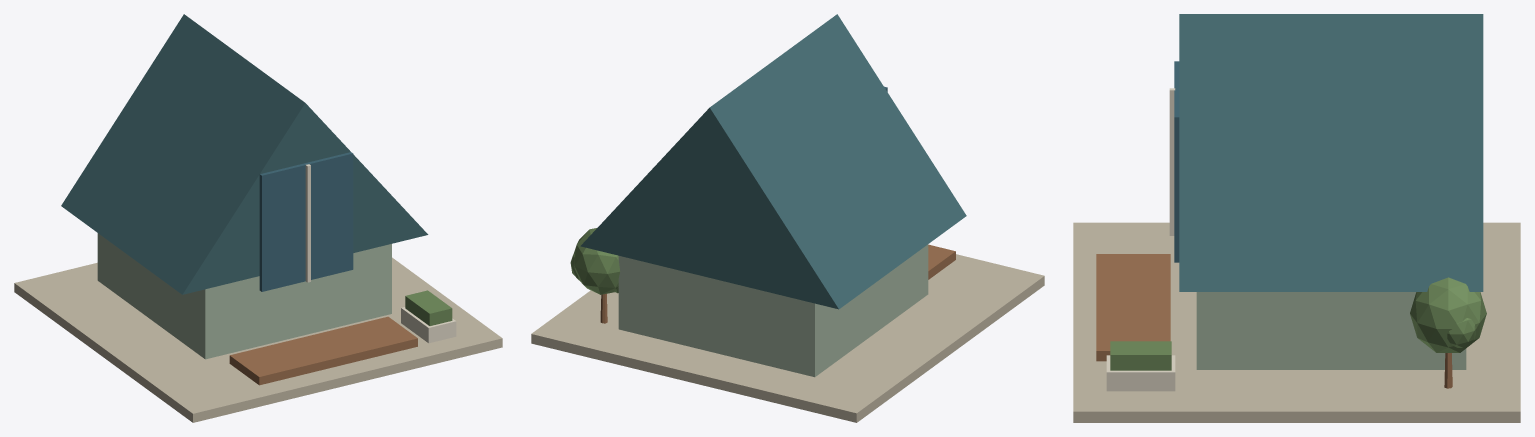
File: sage-house_lod.glb
The picture shows the model from 3 angles, left to right: view 1: azimuth 30°, elevation 25°; view 2: azimuth 150°, elevation 25°; view 3: azimuth 270°, elevation 25°; orthographic projection. The views are drawn at different scales.
Visible parts, largest first — view 1: sage_house_Gable_Roof, sage_house_Site_Paving, sage_house_Building_Volume, sage_house_Gable_Glass, sage_house_Timber_Porch, sage_house_Hedge, sage_house_Raised_Planter, sage_house_Gable_Frame; view 2: sage_house_Gable_Roof, sage_house_Site_Paving, sage_house_Building_Volume, sage_house_Tree_Crown, sage_house_Timber_Porch; view 3: sage_house_Gable_Roof, sage_house_Site_Paving, sage_house_Building_Volume, sage_house_Timber_Porch, sage_house_Tree_Crown, sage_house_Hedge, sage_house_Raised_Planter, sage_house_Gable_Glass, sage_house_Gable_Frame, sage_house_Tree_Crown.002.
Boxes of the visible parts, left/top/right/bottom form: sage_house_Gable_Roof: left=61, top=14, right=428, bottom=294; sage_house_Site_Paving: left=14, top=257, right=502, bottom=422; sage_house_Building_Volume: left=97, top=233, right=391, bottom=359; sage_house_Gable_Glass: left=259, top=152, right=353, bottom=291; sage_house_Timber_Porch: left=229, top=316, right=417, bottom=385; sage_house_Hedge: left=405, top=290, right=452, bottom=325; sage_house_Raised_Planter: left=401, top=307, right=456, bottom=343; sage_house_Gable_Frame: left=305, top=164, right=310, bottom=282; sage_house_Gable_Roof: left=580, top=14, right=966, bottom=309; sage_house_Site_Paving: left=531, top=254, right=1044, bottom=422; sage_house_Building_Volume: left=618, top=244, right=928, bottom=377; sage_house_Tree_Crown: left=574, top=228, right=620, bottom=294; sage_house_Timber_Porch: left=928, top=244, right=955, bottom=279; sage_house_Gable_Roof: left=1179, top=14, right=1483, bottom=291; sage_house_Site_Paving: left=1073, top=222, right=1520, bottom=422; sage_house_Building_Volume: left=1196, top=292, right=1466, bottom=369; sage_house_Timber_Porch: left=1096, top=254, right=1170, bottom=361; sage_house_Tree_Crown: left=1410, top=277, right=1486, bottom=352; sage_house_Hedge: left=1110, top=341, right=1171, bottom=370; sage_house_Raised_Planter: left=1106, top=355, right=1175, bottom=391; sage_house_Gable_Glass: left=1174, top=61, right=1179, bottom=262; sage_house_Gable_Frame: left=1169, top=88, right=1175, bottom=235; sage_house_Tree_Crown.002: left=1447, top=318, right=1475, bottom=347.
Size of the model in its own units: 7.8 by 6.05 by 7.8.
